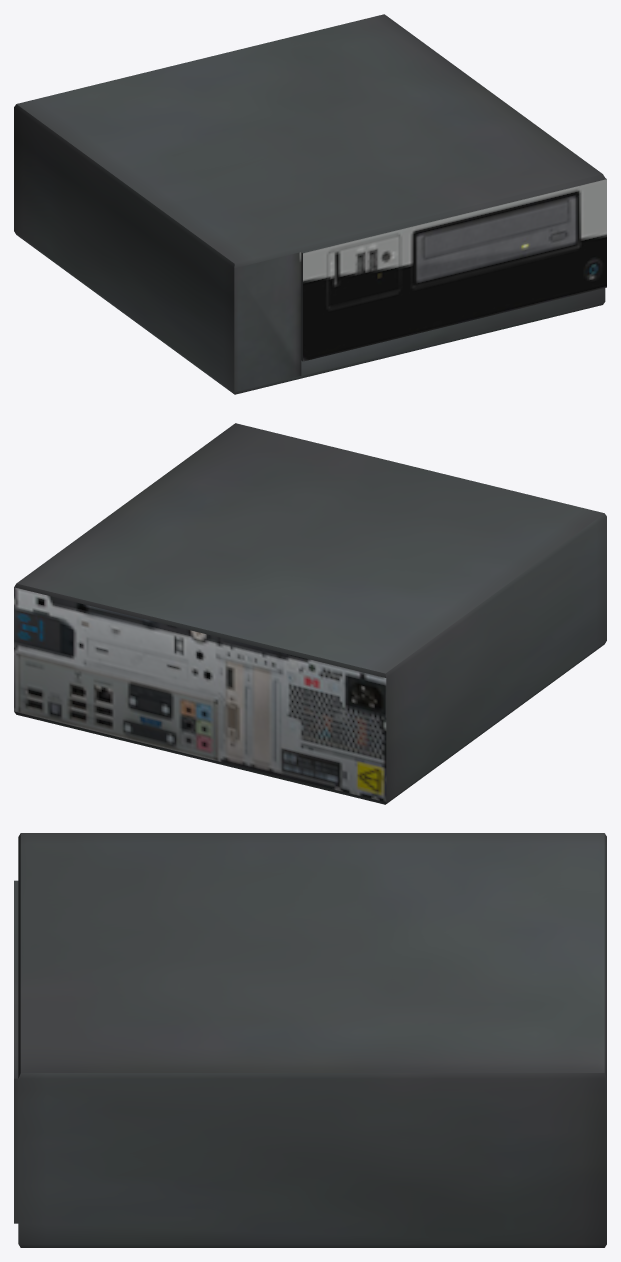
File: CPU2.FBX
3 renders of one model, top to bottom at view 1: azimuth 30°, elevation 25°; view 2: azimuth 150°, elevation 25°; view 3: azimuth 270°, elevation 25°, orthographic. The views are drawn at different scales.
Visible parts, largest first — view 1: CPU2; view 2: CPU2; view 3: CPU2.
Part boxes in pixels (x1,y1,x2,y2): CPU2: (14,14,606,394); CPU2: (14,423,606,804); CPU2: (14,833,606,1247).
Size of the model in its own units: 11.1 by 3.81 by 11.49.
